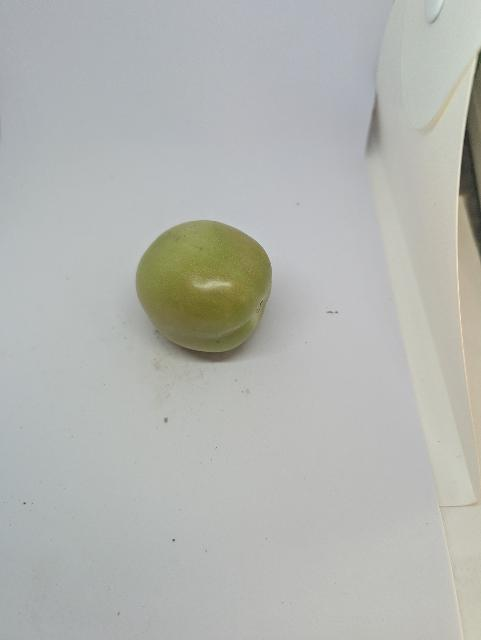green: (134, 218, 275, 356)
